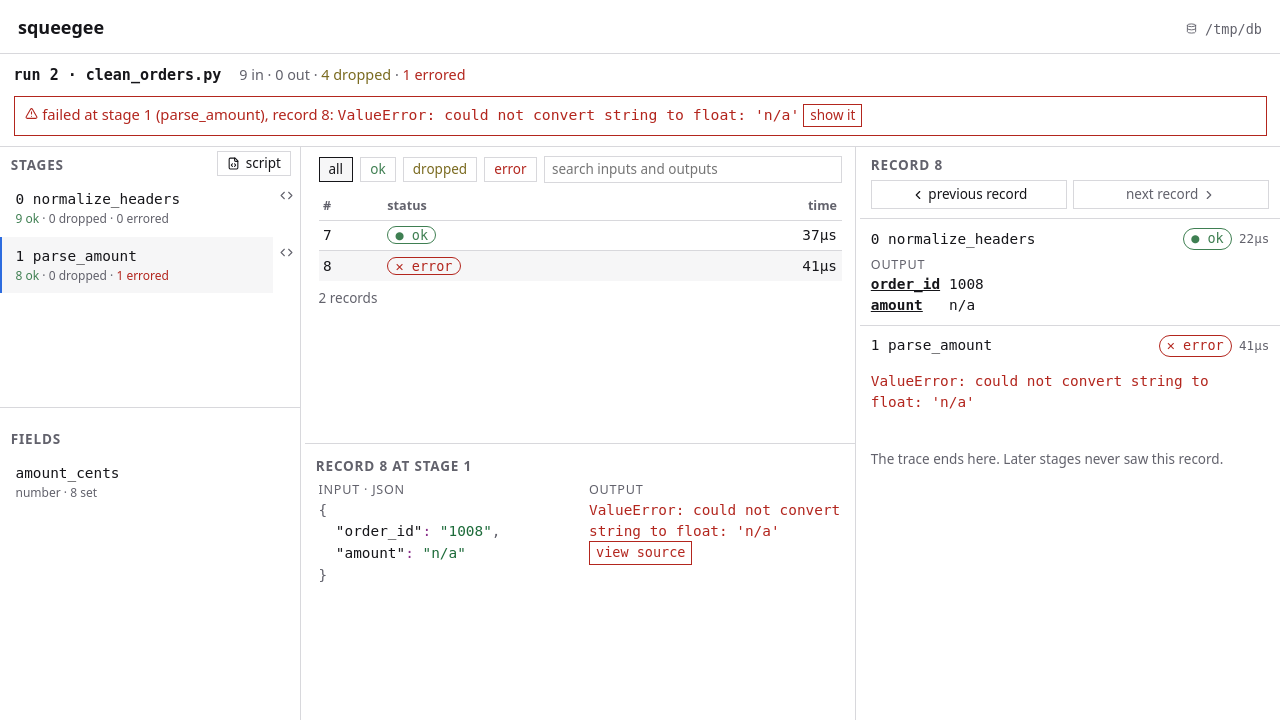
a record that errored shows the reason and a way to the source
Expected: the text "ValueError: could not convert string to float: 'n/a'" is shown, left=589, top=500, right=842, bottom=565
Click the button "view source" at (641, 553), box left=589, top=541, right=692, bottom=565
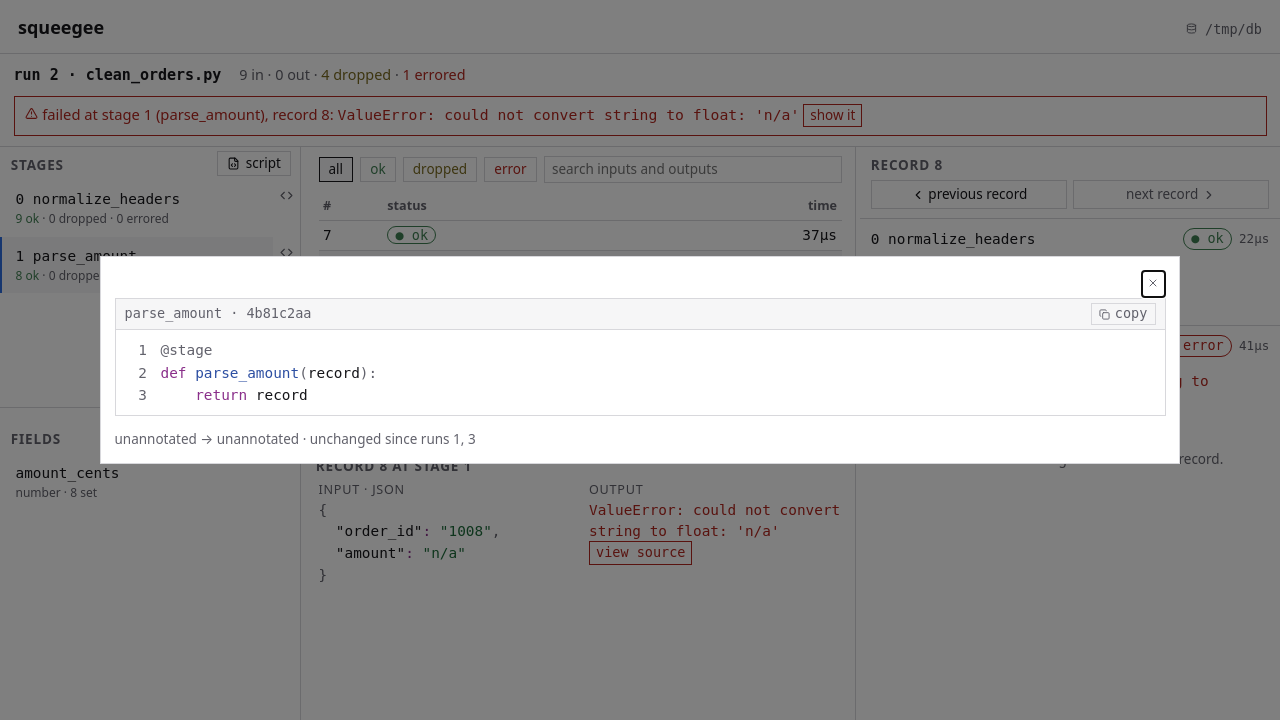
Now the text "parse_amount · 4b81c2aa" is shown, box left=124, top=304, right=311, bottom=324
